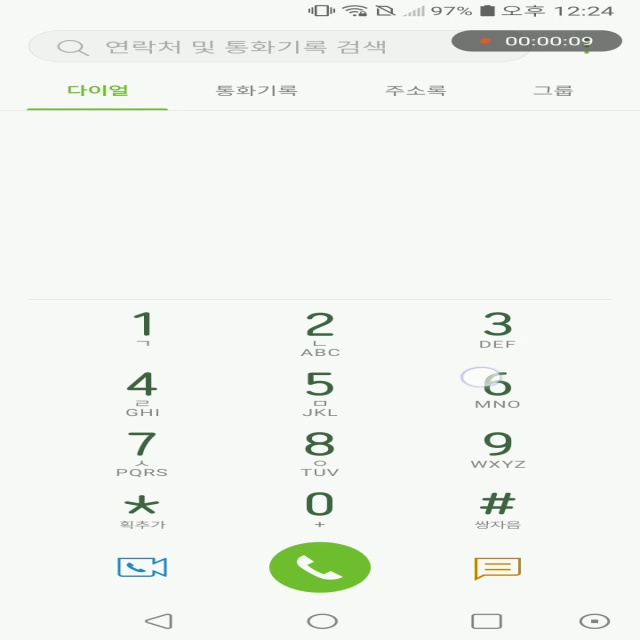Cursor: (459, 366, 504, 388)
